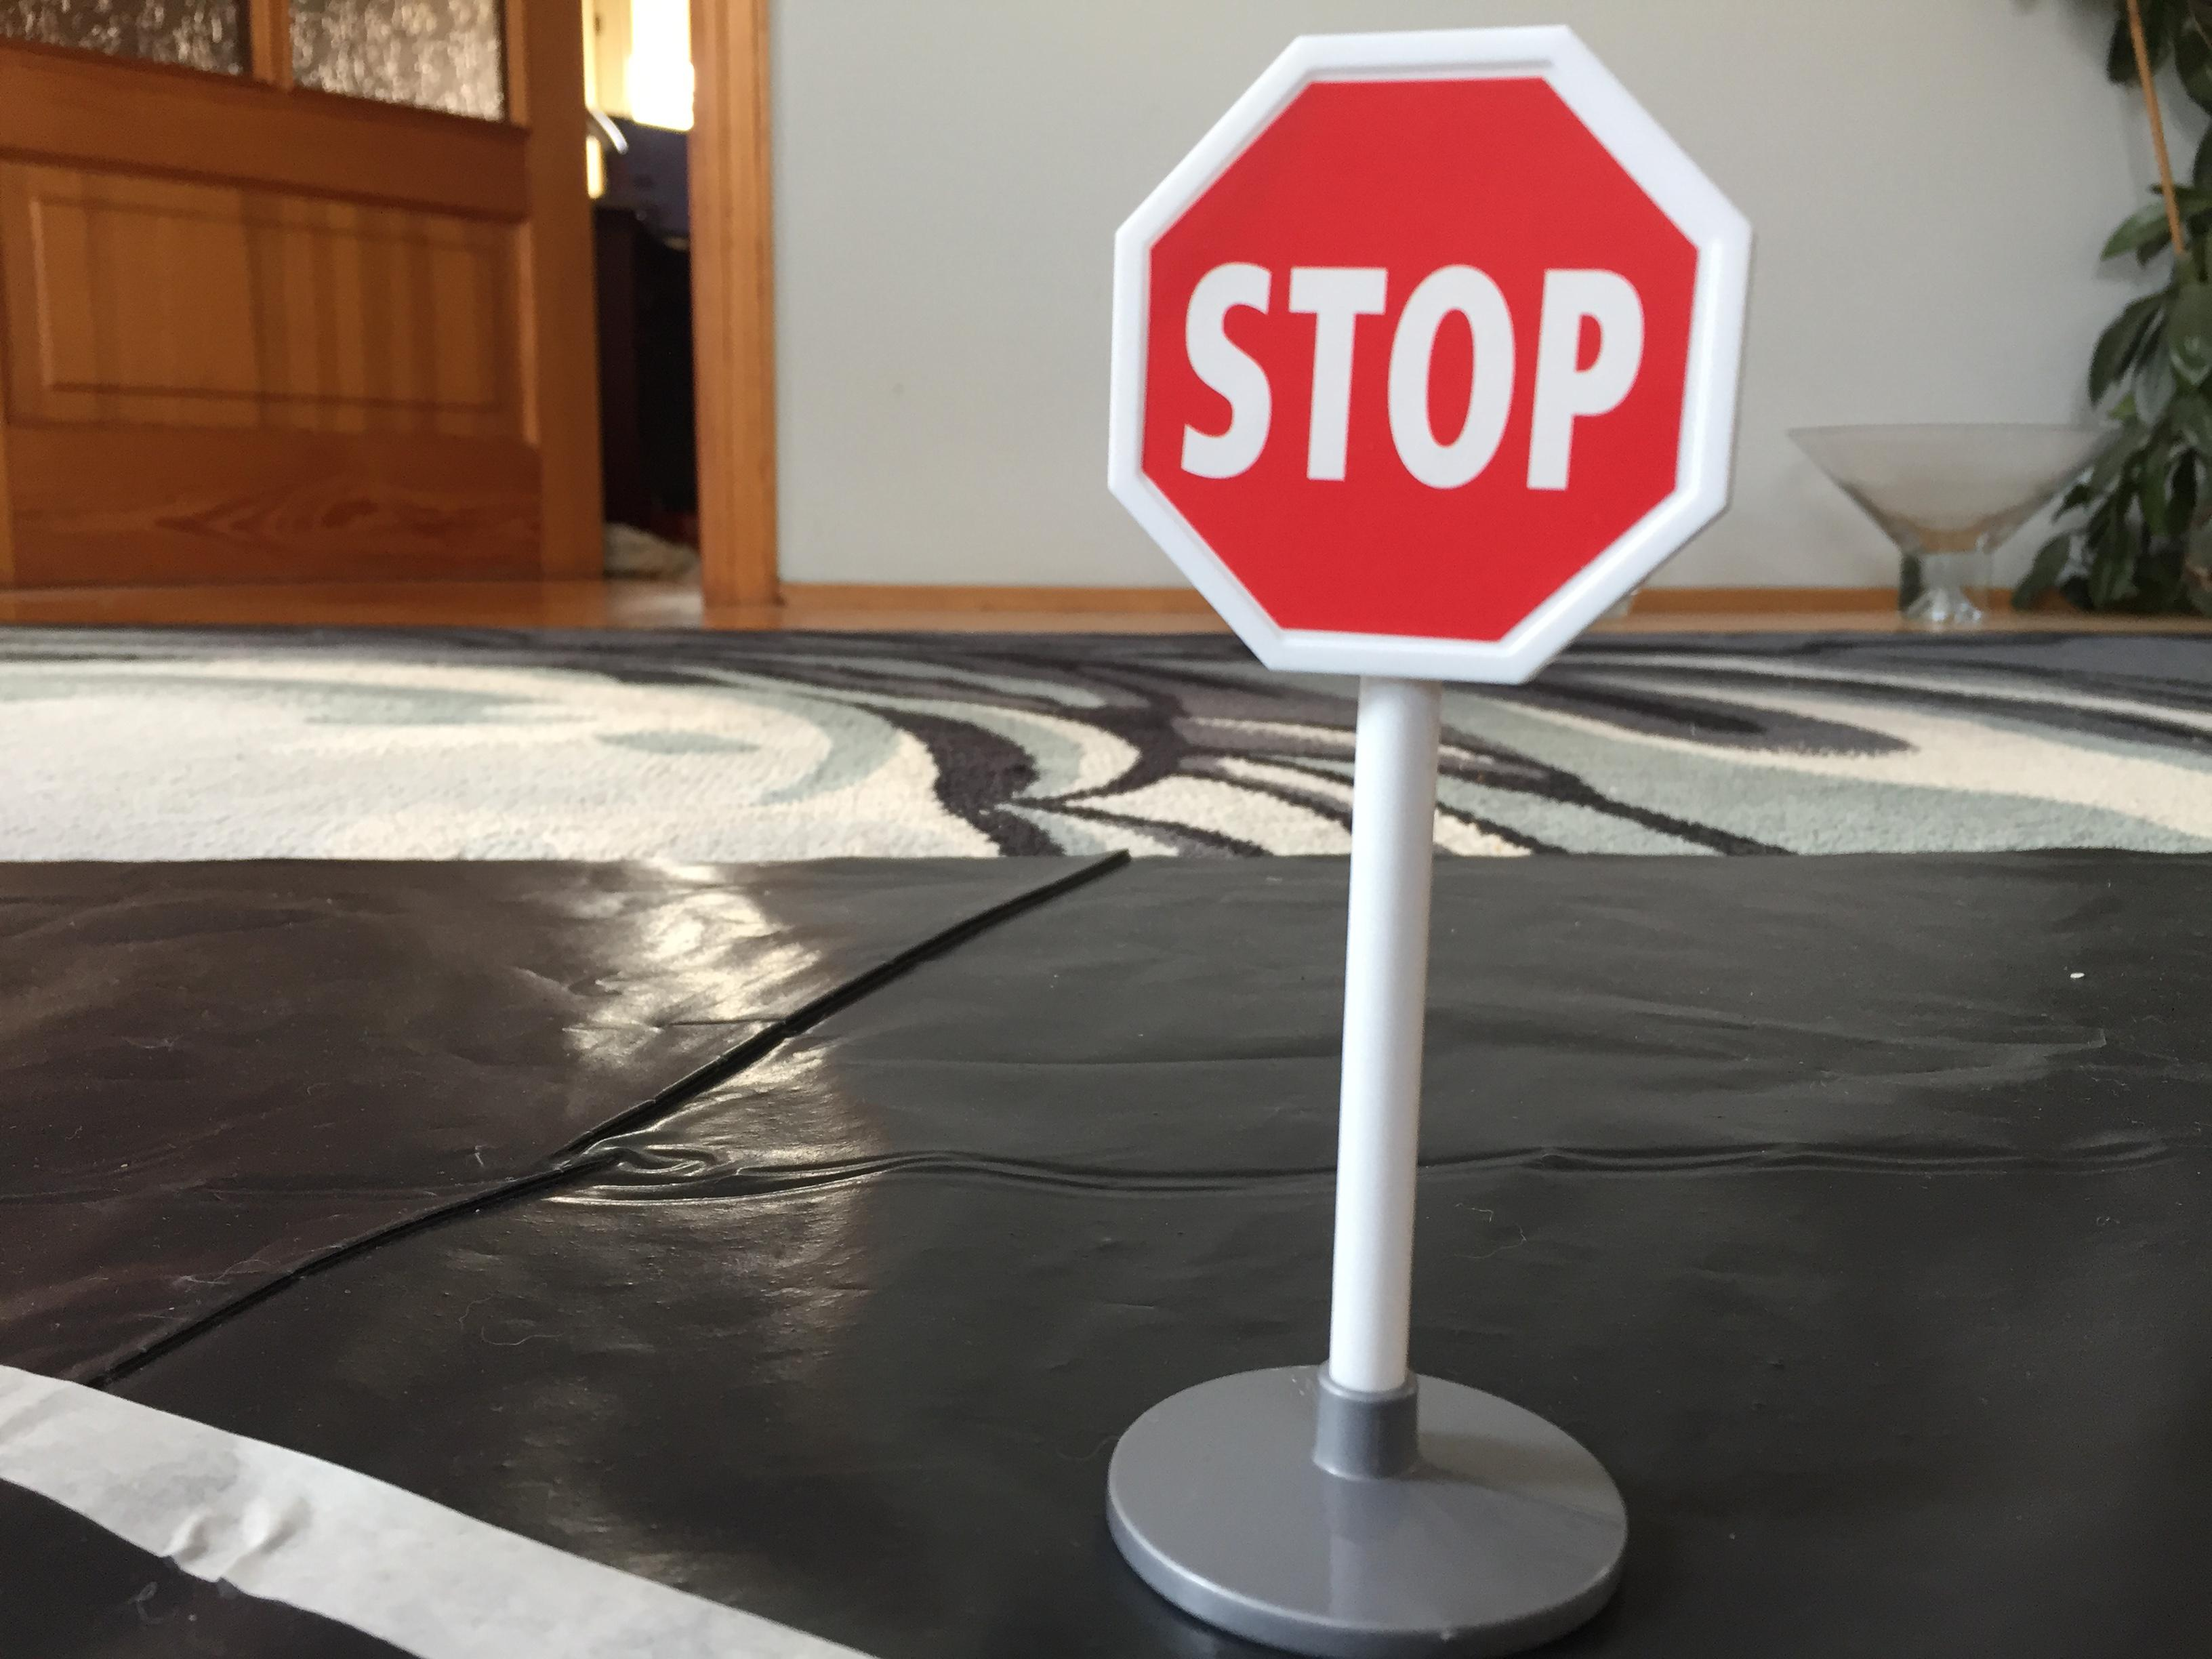stop: (1092, 21, 1777, 704)
